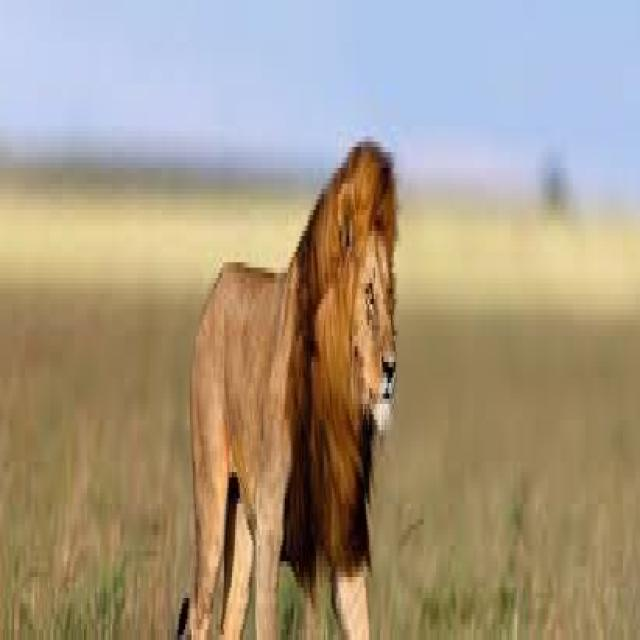Lion: (174, 136, 398, 635)
